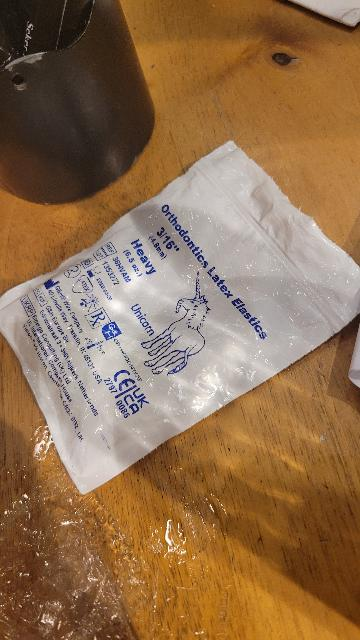Metal: (0, 0, 162, 206)
Plastik: (0, 144, 360, 498)
